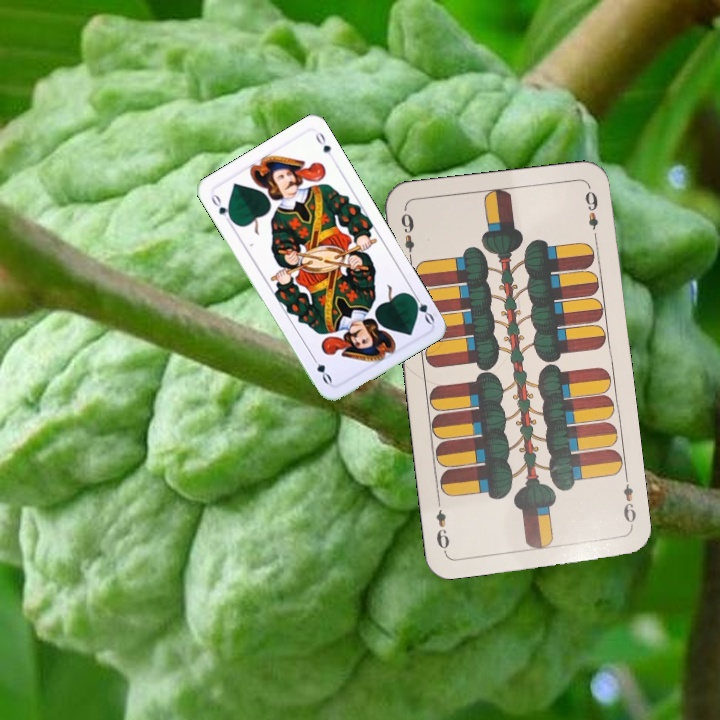E9: (619, 472, 639, 532), (396, 209, 417, 265)
GO: (406, 289, 437, 326), (207, 190, 236, 227)
